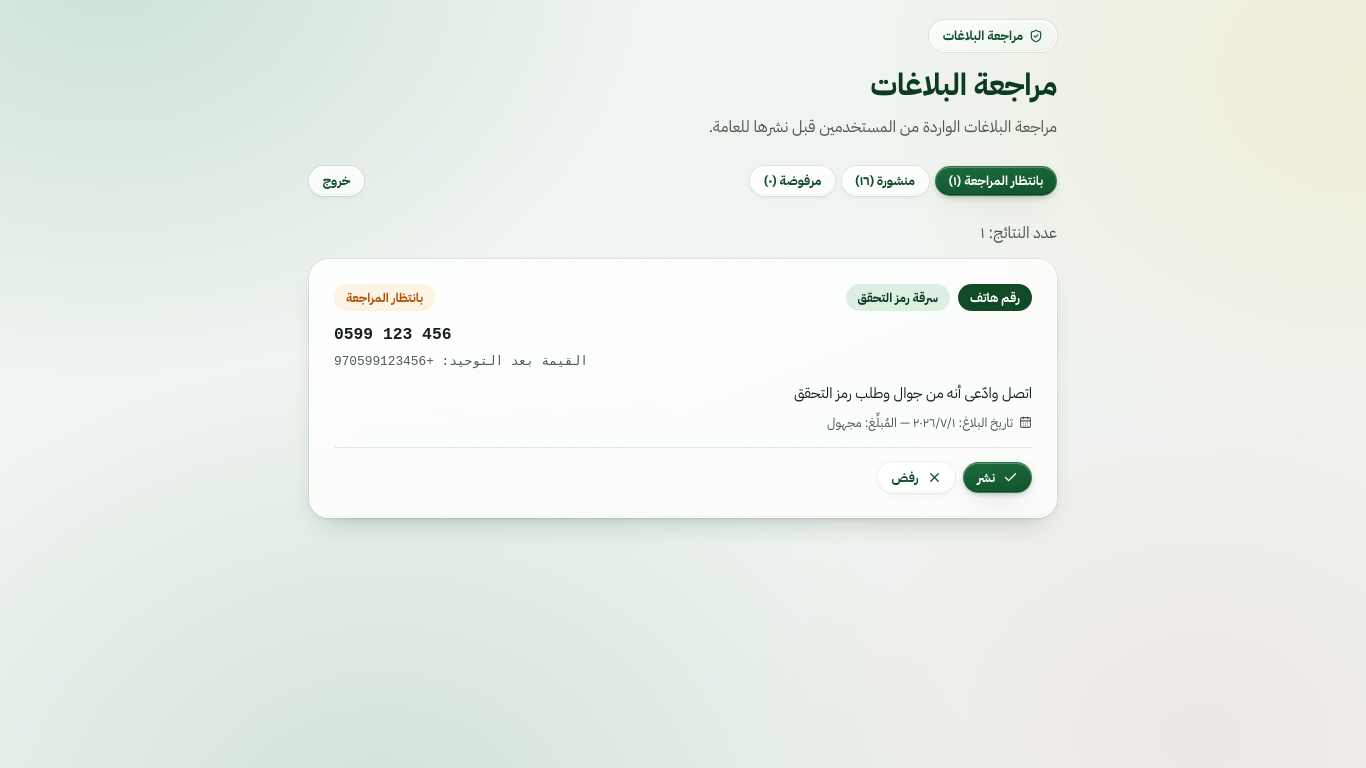
Test: Admin token gate › signing out clears the token and returns to the gate
The image size is (1366, 768).
Check: the text "0599 123 456" is shown, box [334,325,452,344]
What coordinates should you click on to do the following:
click the button "خروج"
I would click on:
 (337, 181)
Its box is [309,166,364,196].
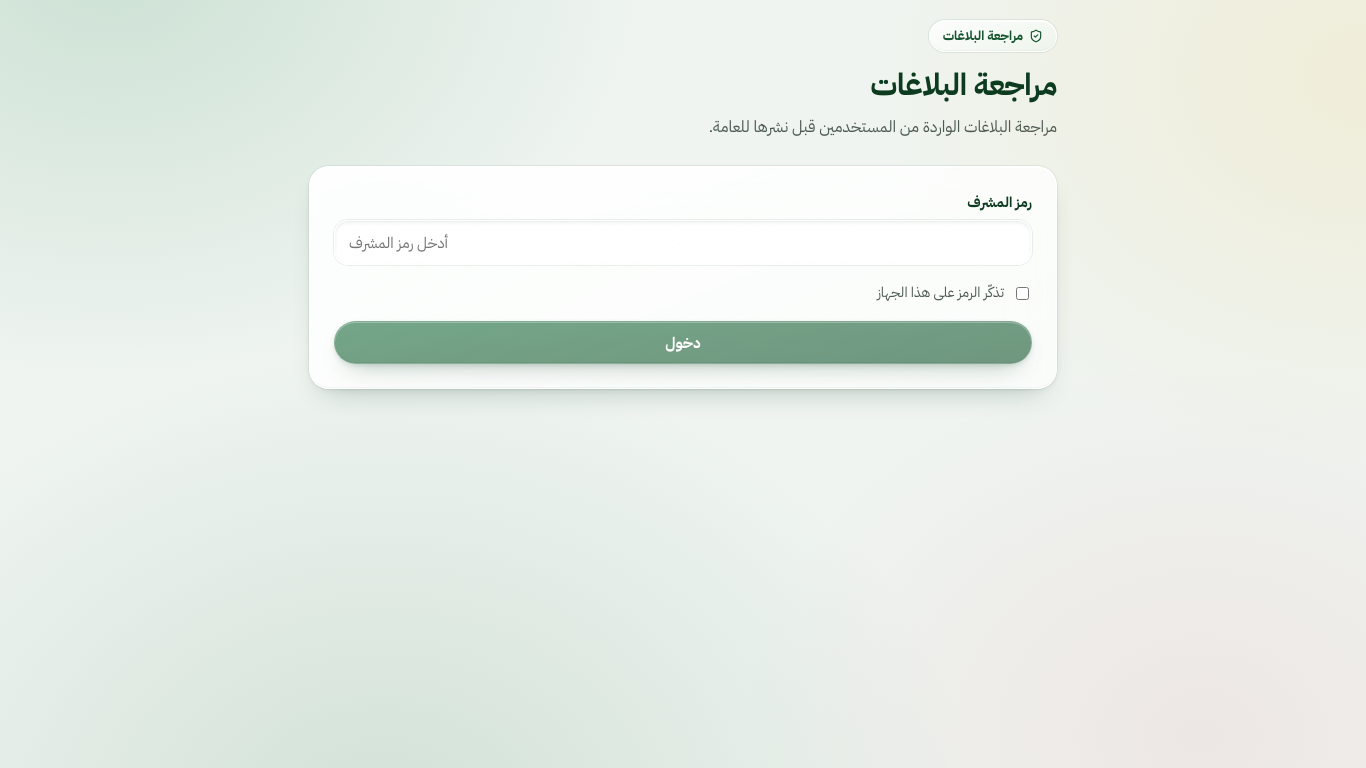
Check: the password field labelled "رمز المشرف" is shown, box [334,220,1032,265]
